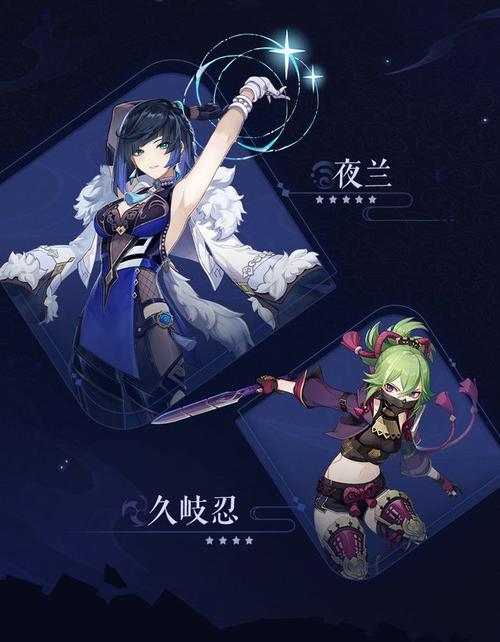夜兰: (79, 75, 291, 433)
